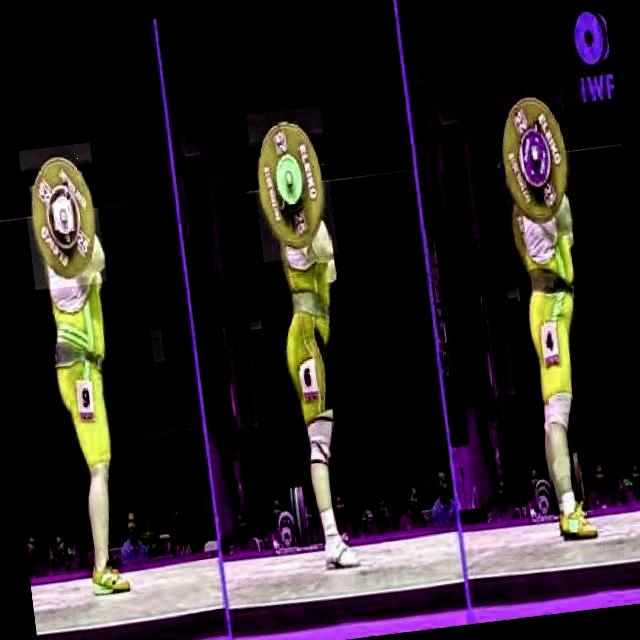barbell: (246, 106, 339, 263), (18, 143, 108, 292), (495, 85, 580, 233)
